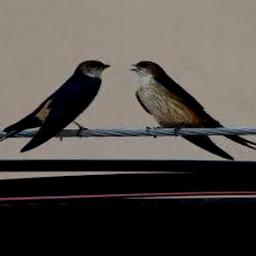Swallow: (130, 61, 256, 160), (0, 60, 111, 158)
